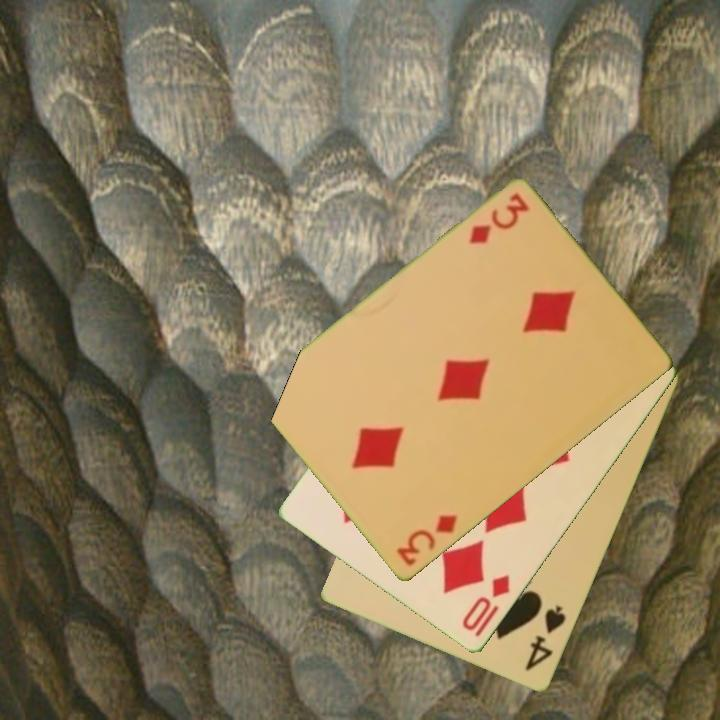10d: (458, 571, 513, 635)
3d: (393, 511, 460, 570), (465, 190, 533, 248)
4s: (521, 602, 569, 674)
